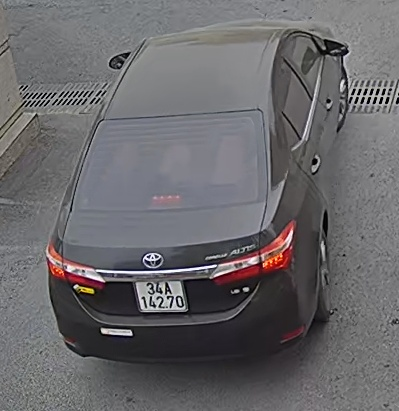vehicle plate: (132, 277, 190, 313)
